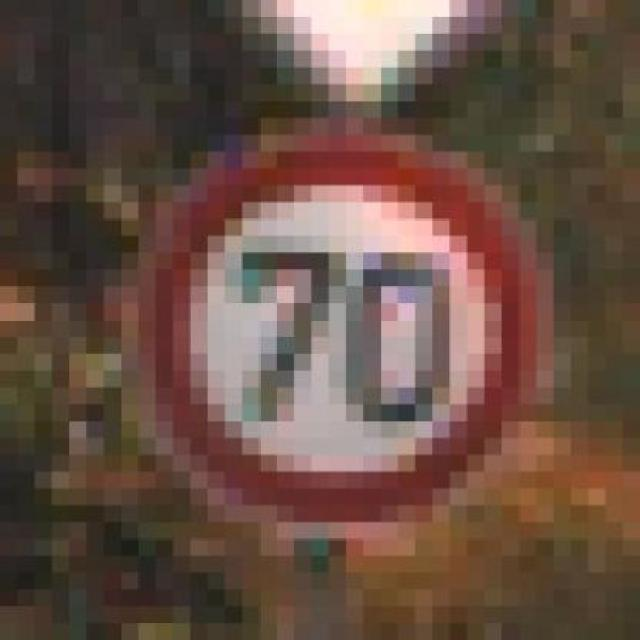forb_speed_over_70: (149, 134, 526, 520)
